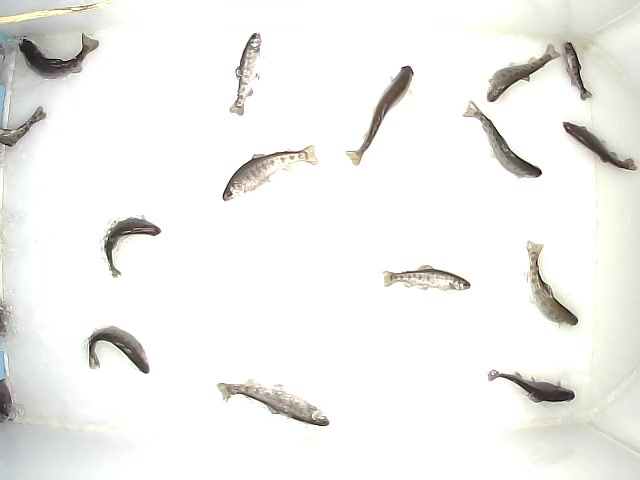fish: (345, 65, 415, 167), (461, 100, 544, 180), (221, 143, 320, 202), (215, 378, 331, 428), (522, 239, 580, 330), (486, 43, 562, 103), (17, 32, 101, 81), (561, 121, 638, 172), (103, 213, 161, 279), (487, 367, 577, 406), (87, 324, 151, 376), (227, 31, 264, 118), (381, 263, 471, 292), (562, 40, 594, 103)
